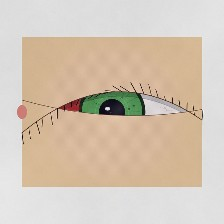hemorrhage_spot: (41, 72, 108, 125)
